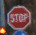stopsign: (7, 5, 31, 30)
